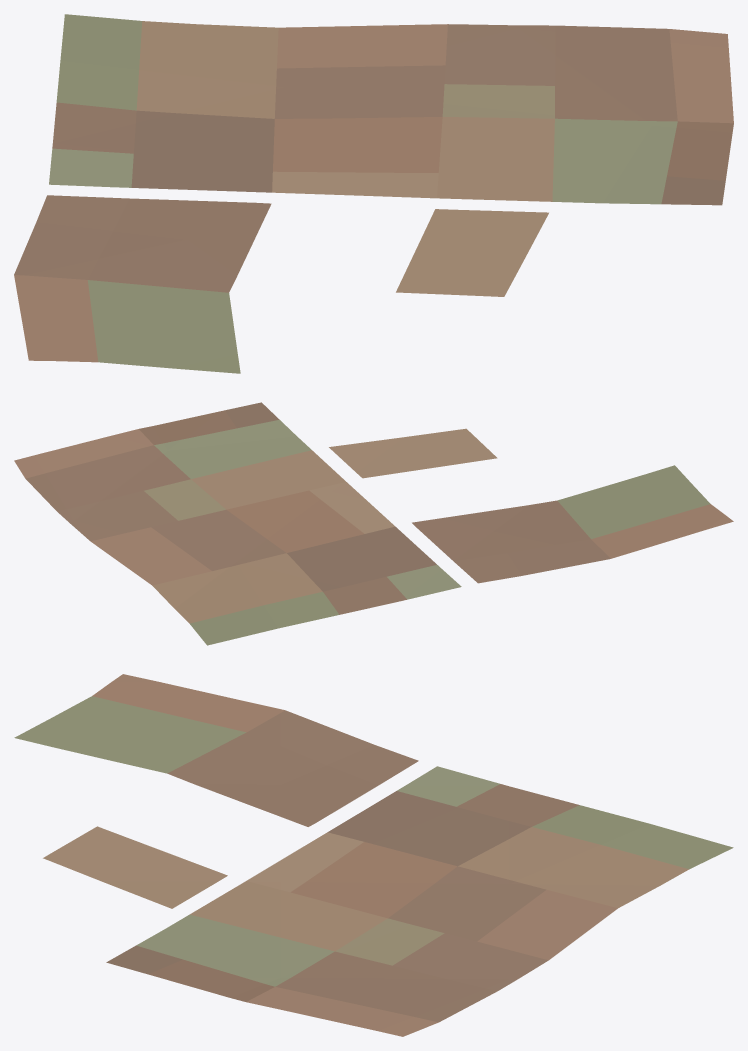
File: farm_6_6_soil.glb
3 views of the same model, one above another, from view 1: azimuth 30°, elevation 25°; view 2: azimuth 150°, elevation 25°; view 3: azimuth 270°, elevation 25° (orthographic). The views are drawn at different scales.
Parts seen in each view (by area): view 1: geometry_0; view 2: geometry_0; view 3: geometry_0.
Boxes of the visible parts, bbox=[...] form: geometry_0: bbox=[14, 14, 733, 373]; geometry_0: bbox=[14, 402, 733, 645]; geometry_0: bbox=[14, 674, 733, 1036].
Bounding box in the file's own units: 297 × 3.86 × 251.
